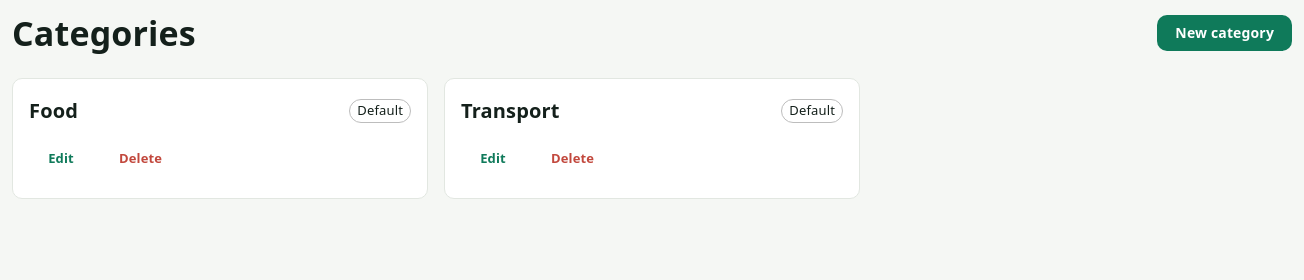
Test: CategoriesPage › explains why an in-use category cannot be deleted
This screenshot has width=1304, height=280.
Click the button "Delete" below "Food": (141, 158) [101,143,180,174]
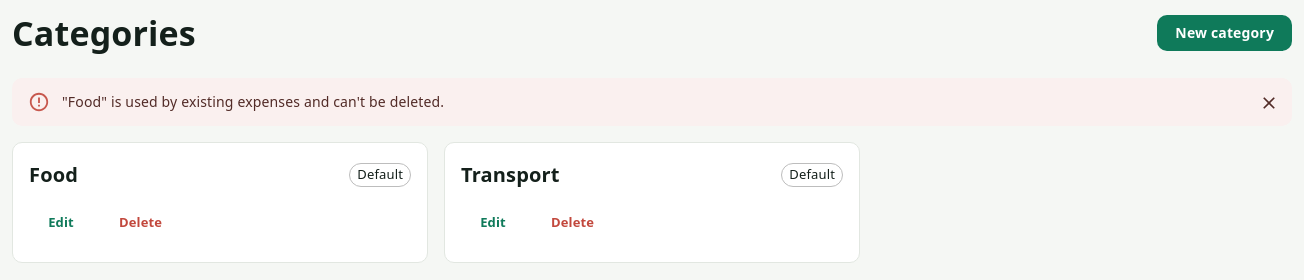
Result: the text "\"Food\" is used by existing expenses and can't be deleted." is shown at [62,92,444,111]
